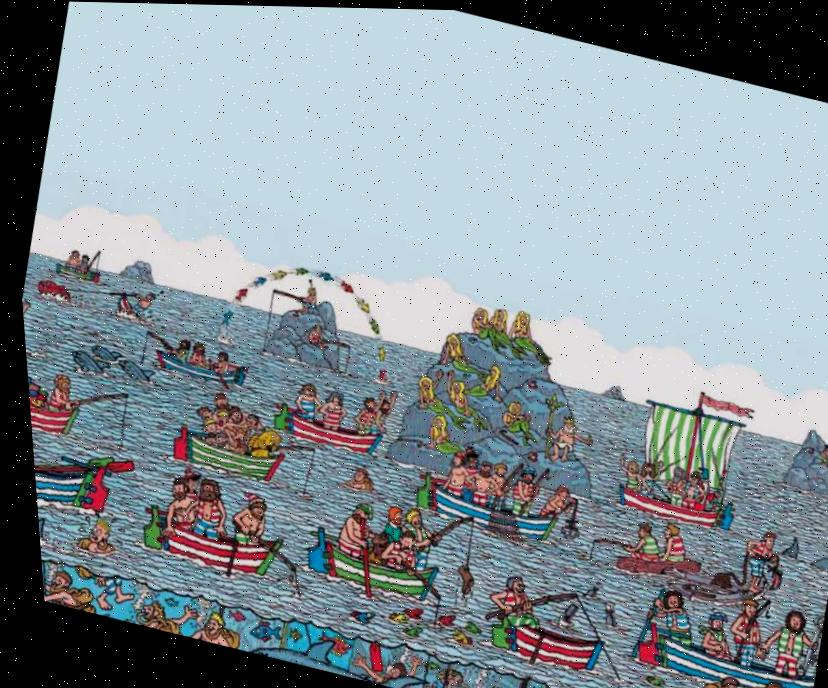waldo: (455, 443, 476, 468)
